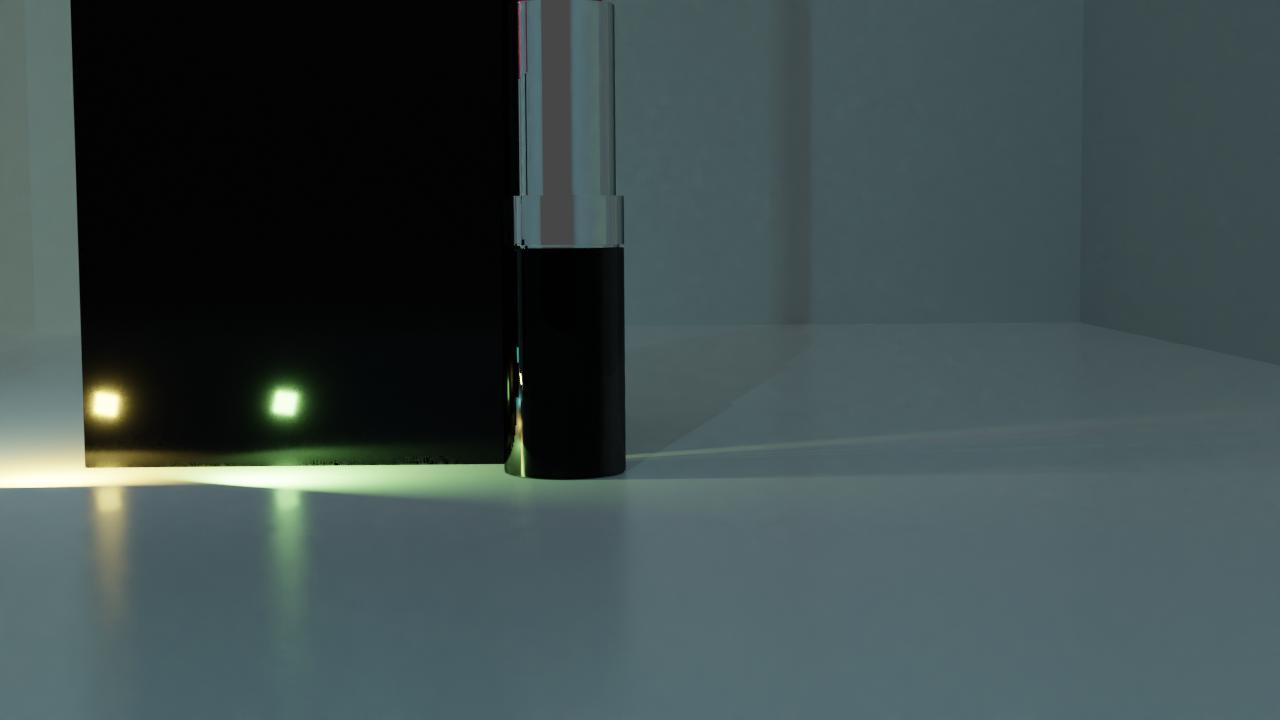CLASSIFIER_NAME: (499, 0, 627, 480)
